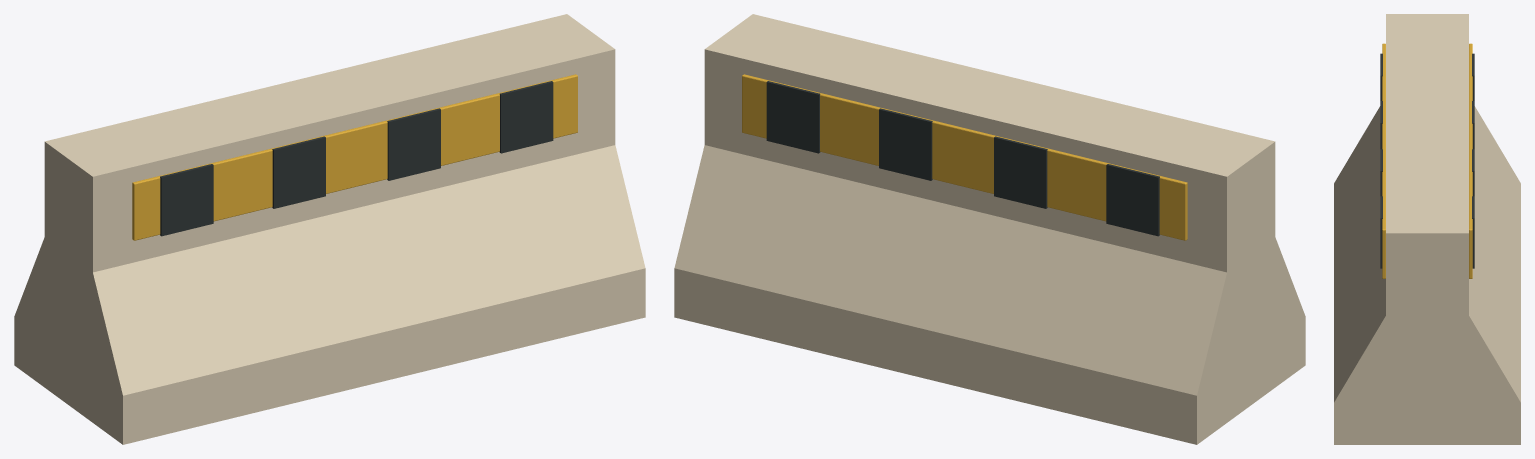
File: concrete-barrier-2m.glb
3 views of the same model, side by side, from view 1: azimuth 30°, elevation 25°; view 2: azimuth 150°, elevation 25°; view 3: azimuth 270°, elevation 25° (orthographic). The views are drawn at different scales.
Visible parts, largest first — view 1: concrete-barrier-2m-frame-timber-cream, concrete-barrier-2m-frame-timber-yellow, concrete-barrier-2m-frame-timber-black; view 2: concrete-barrier-2m-frame-timber-cream, concrete-barrier-2m-frame-timber-yellow, concrete-barrier-2m-frame-timber-black; view 3: concrete-barrier-2m-frame-timber-cream, concrete-barrier-2m-frame-timber-yellow, concrete-barrier-2m-frame-timber-black.
Part boxes in pixels (bbox=[...]): concrete-barrier-2m-frame-timber-cream: bbox=[14, 14, 645, 444]; concrete-barrier-2m-frame-timber-yellow: bbox=[132, 74, 577, 240]; concrete-barrier-2m-frame-timber-black: bbox=[160, 81, 553, 236]; concrete-barrier-2m-frame-timber-cream: bbox=[674, 14, 1305, 444]; concrete-barrier-2m-frame-timber-yellow: bbox=[742, 74, 1187, 240]; concrete-barrier-2m-frame-timber-black: bbox=[766, 81, 1159, 236]; concrete-barrier-2m-frame-timber-cream: bbox=[1334, 14, 1520, 444]; concrete-barrier-2m-frame-timber-yellow: bbox=[1382, 43, 1472, 278]; concrete-barrier-2m-frame-timber-black: bbox=[1380, 53, 1474, 268].
Size of the model in its own units: 2 by 0.9 by 0.72.
